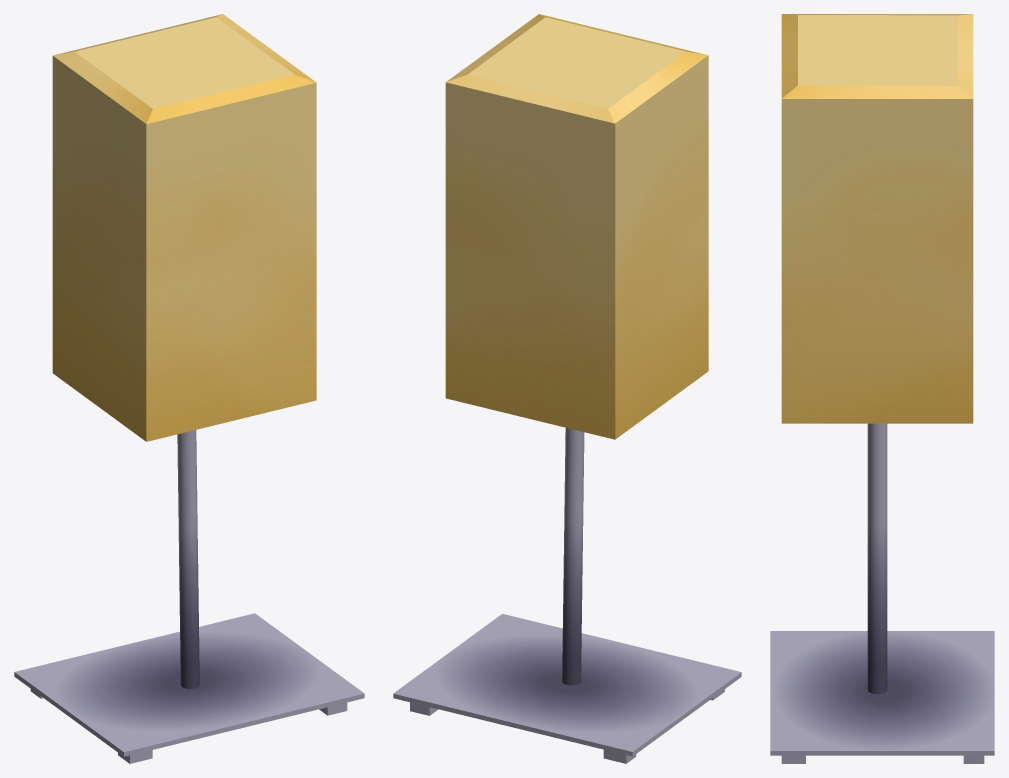
Rendered from lamp_square 1.fbx.
The picture shows the model from 3 angles, left to right: view 1: azimuth 30°, elevation 25°; view 2: azimuth 150°, elevation 25°; view 3: azimuth 270°, elevation 25°; orthographic projection. The views are drawn at different scales.
Visible parts, largest first — view 1: pCube2, pCube3; view 2: pCube2, pCube3; view 3: pCube2, pCube3.
Boxes of the visible parts, left/top/right/bottom form: pCube2: left=52, top=14, right=316, bottom=441; pCube3: left=14, top=430, right=364, bottom=763; pCube2: left=445, top=14, right=708, bottom=439; pCube3: left=393, top=428, right=741, bottom=763; pCube2: left=781, top=14, right=973, bottom=423; pCube3: left=770, top=423, right=994, bottom=763.
Bounding box in the file's own units: 4.87 × 12.41 × 3.85.
Materials: 1 (1 with a texture image).
